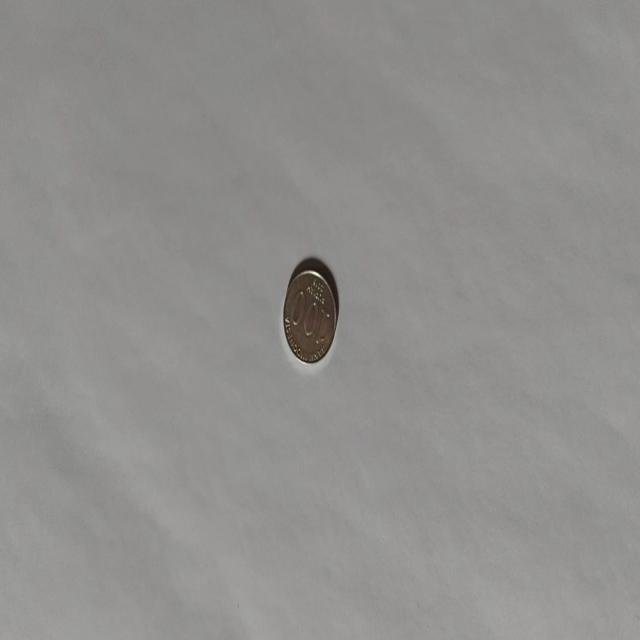seratus rupiah: (282, 266, 338, 364)
